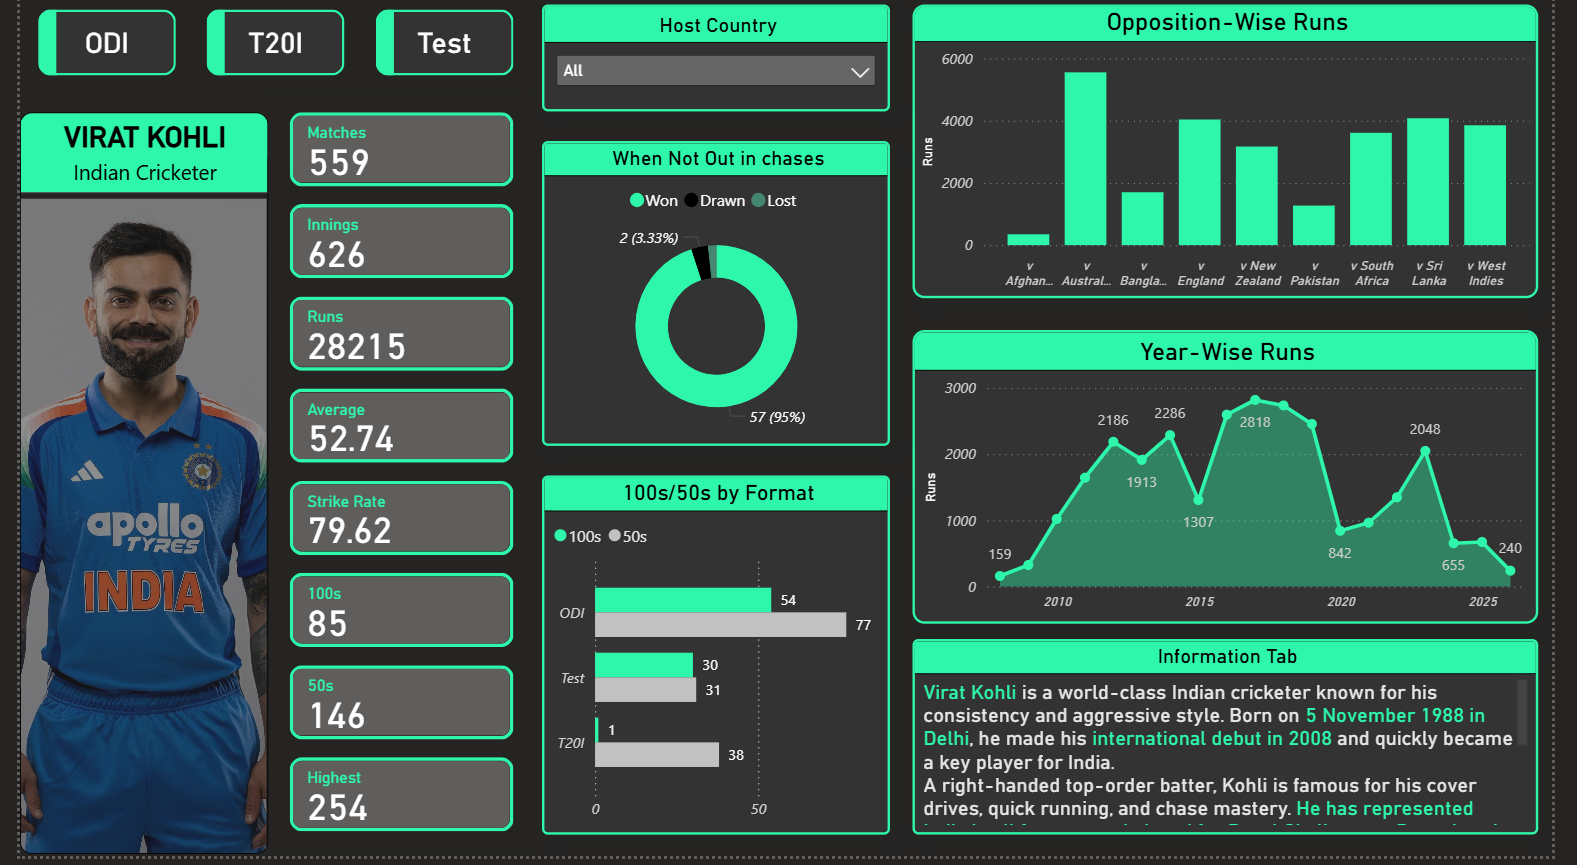

The page's visual inventory and layout, read from the dashboard file:
{"tool":"powerbi","page":{"name":"Page 1","canvas":[1280,720],"ordinal":0},"visuals":[{"type":"actionButton","box":[0,0,100,40],"z":0},{"type":"clusteredColumnChart","title":"Opposition-Wise Runs","fields":{"Y":["Sum(All.Runs)"],"Category":["All.Opposition"]},"box":[745,9.1,522.4,245.3],"z":1000},{"type":"advancedSlicerVisual","fields":{"Values":["All.Format"]},"box":[0,4.5,428.5,71.2],"z":2000},{"type":"areaChart","title":"Year-Wise Runs","fields":{"Category":["All.Date.Variation.Date Hierarchy.Year"],"Y":["Sum(All.Runs)"]},"box":[745,280.7,522.4,245.3],"z":3000},{"type":"cardVisual","fields":{"Data":["Count(All.Int. Match)","CountNonNull(All.Int. Inns)","Sum(All.Runs)","All.Average","All.Strike Rate","All.100s","All.50s","Max(All.Runs)"]},"box":[207.4,81.8,221.1,637.5],"z":4000},{"type":"donutChart","title":"When Not Out in chases","fields":{"Category":["All.Result"],"Y":["All.notoutchase"]},"box":[436.1,122.7,290.7,254.4],"z":5000},{"type":"image","title":"VIRAT KOHLI","box":[0,98.4,207.4,619.3],"z":6000},{"type":"clusteredBarChart","title":"100s/50s by Format","fields":{"Category":["All.Format"],"Y":["All.100s","All.50s"]},"box":[436.1,402.8,290.7,299.8],"z":7000},{"type":"slicer","title":"Host Country","fields":{"Values":["All.Host Country"]},"box":[436.1,9.1,290.7,89.3],"z":8000},{"type":"textbox","title":"Information Tab","box":[745,539.1,522.4,163.5],"z":9000}]}

Visuals, with their boxes in screenshot pixels (x1, y1, x2, y2), scaled from the page's 1280x720 canvas onto the 1577x865 screenshot:
actionButton: [x1=0, y1=0, x2=123, y2=48]
"Opposition-Wise Runs" clusteredColumnChart: [x1=918, y1=11, x2=1561, y2=306]
advancedSlicerVisual - All.Format: [x1=0, y1=5, x2=528, y2=91]
"Year-Wise Runs" areaChart: [x1=918, y1=337, x2=1561, y2=632]
cardVisual - Count(All.Int. Match) x CountNonNull(All.Int. Inns): [x1=256, y1=98, x2=528, y2=864]
"When Not Out in chases" donutChart: [x1=537, y1=147, x2=895, y2=453]
"VIRAT KOHLI" image: [x1=0, y1=118, x2=256, y2=862]
"100s/50s by Format" clusteredBarChart: [x1=537, y1=484, x2=895, y2=844]
"Host Country" slicer: [x1=537, y1=11, x2=895, y2=118]
"Information Tab" textbox: [x1=918, y1=648, x2=1561, y2=844]
